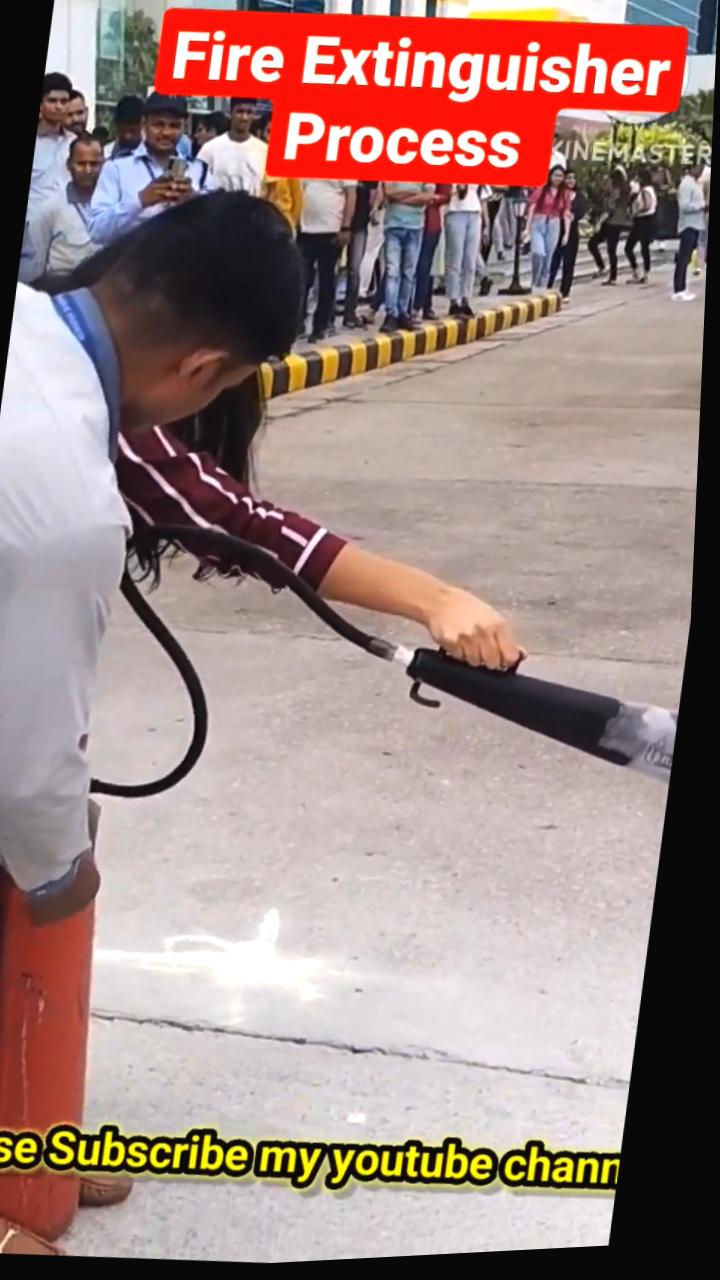FireExtinguisher: (0, 835, 171, 1260)
